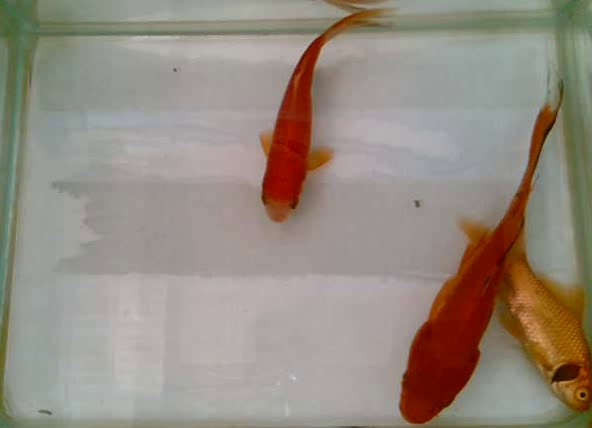alive_fish: (389, 58, 569, 428), (250, 6, 410, 225)
dead_fish: (455, 210, 592, 419)
